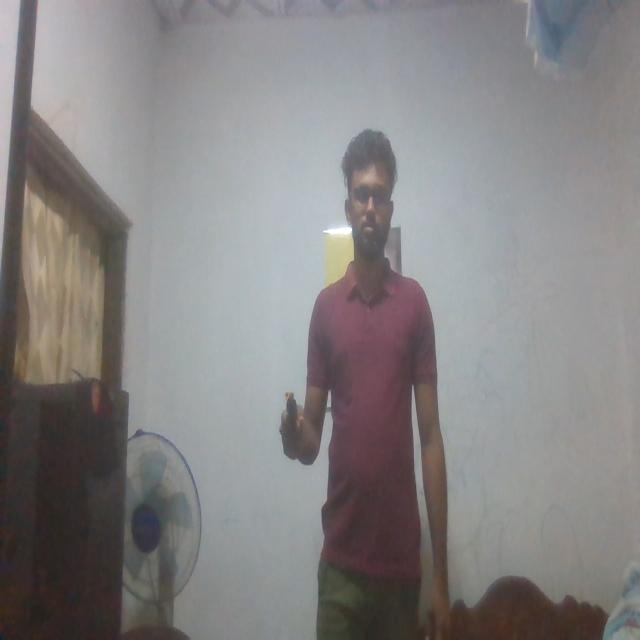Gun_Holder: (277, 382, 305, 462)
Person: (281, 111, 459, 640)
